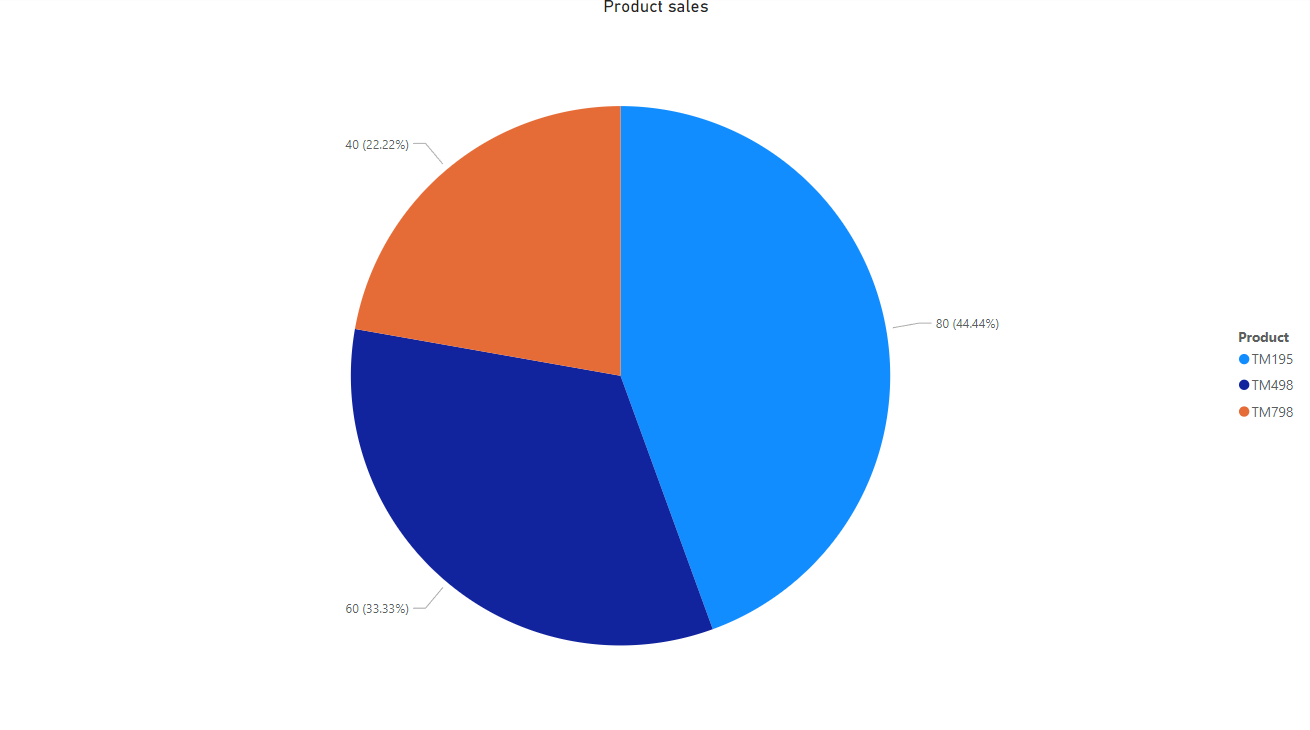

Layout of this report page (visuals, bound fields, positions):
{"tool":"powerbi","page":{"name":"Overall sales visual","canvas":[1280,720],"ordinal":0},"visuals":[{"type":"pieChart","title":"Product sales","fields":{"Y":["CountNonNull(CGF_Data.Product)"],"Category":["CGF_Data.Product"]},"box":[0,0,1280,719.8],"z":0}]}

Visuals, with their boxes in screenshot pixels (x1, y1, x2, y2), scaled from the page's 1280x720 canvas onto the 1310x730 screenshot:
"Product sales" pieChart: select_region(0, 0, 1309, 729)
